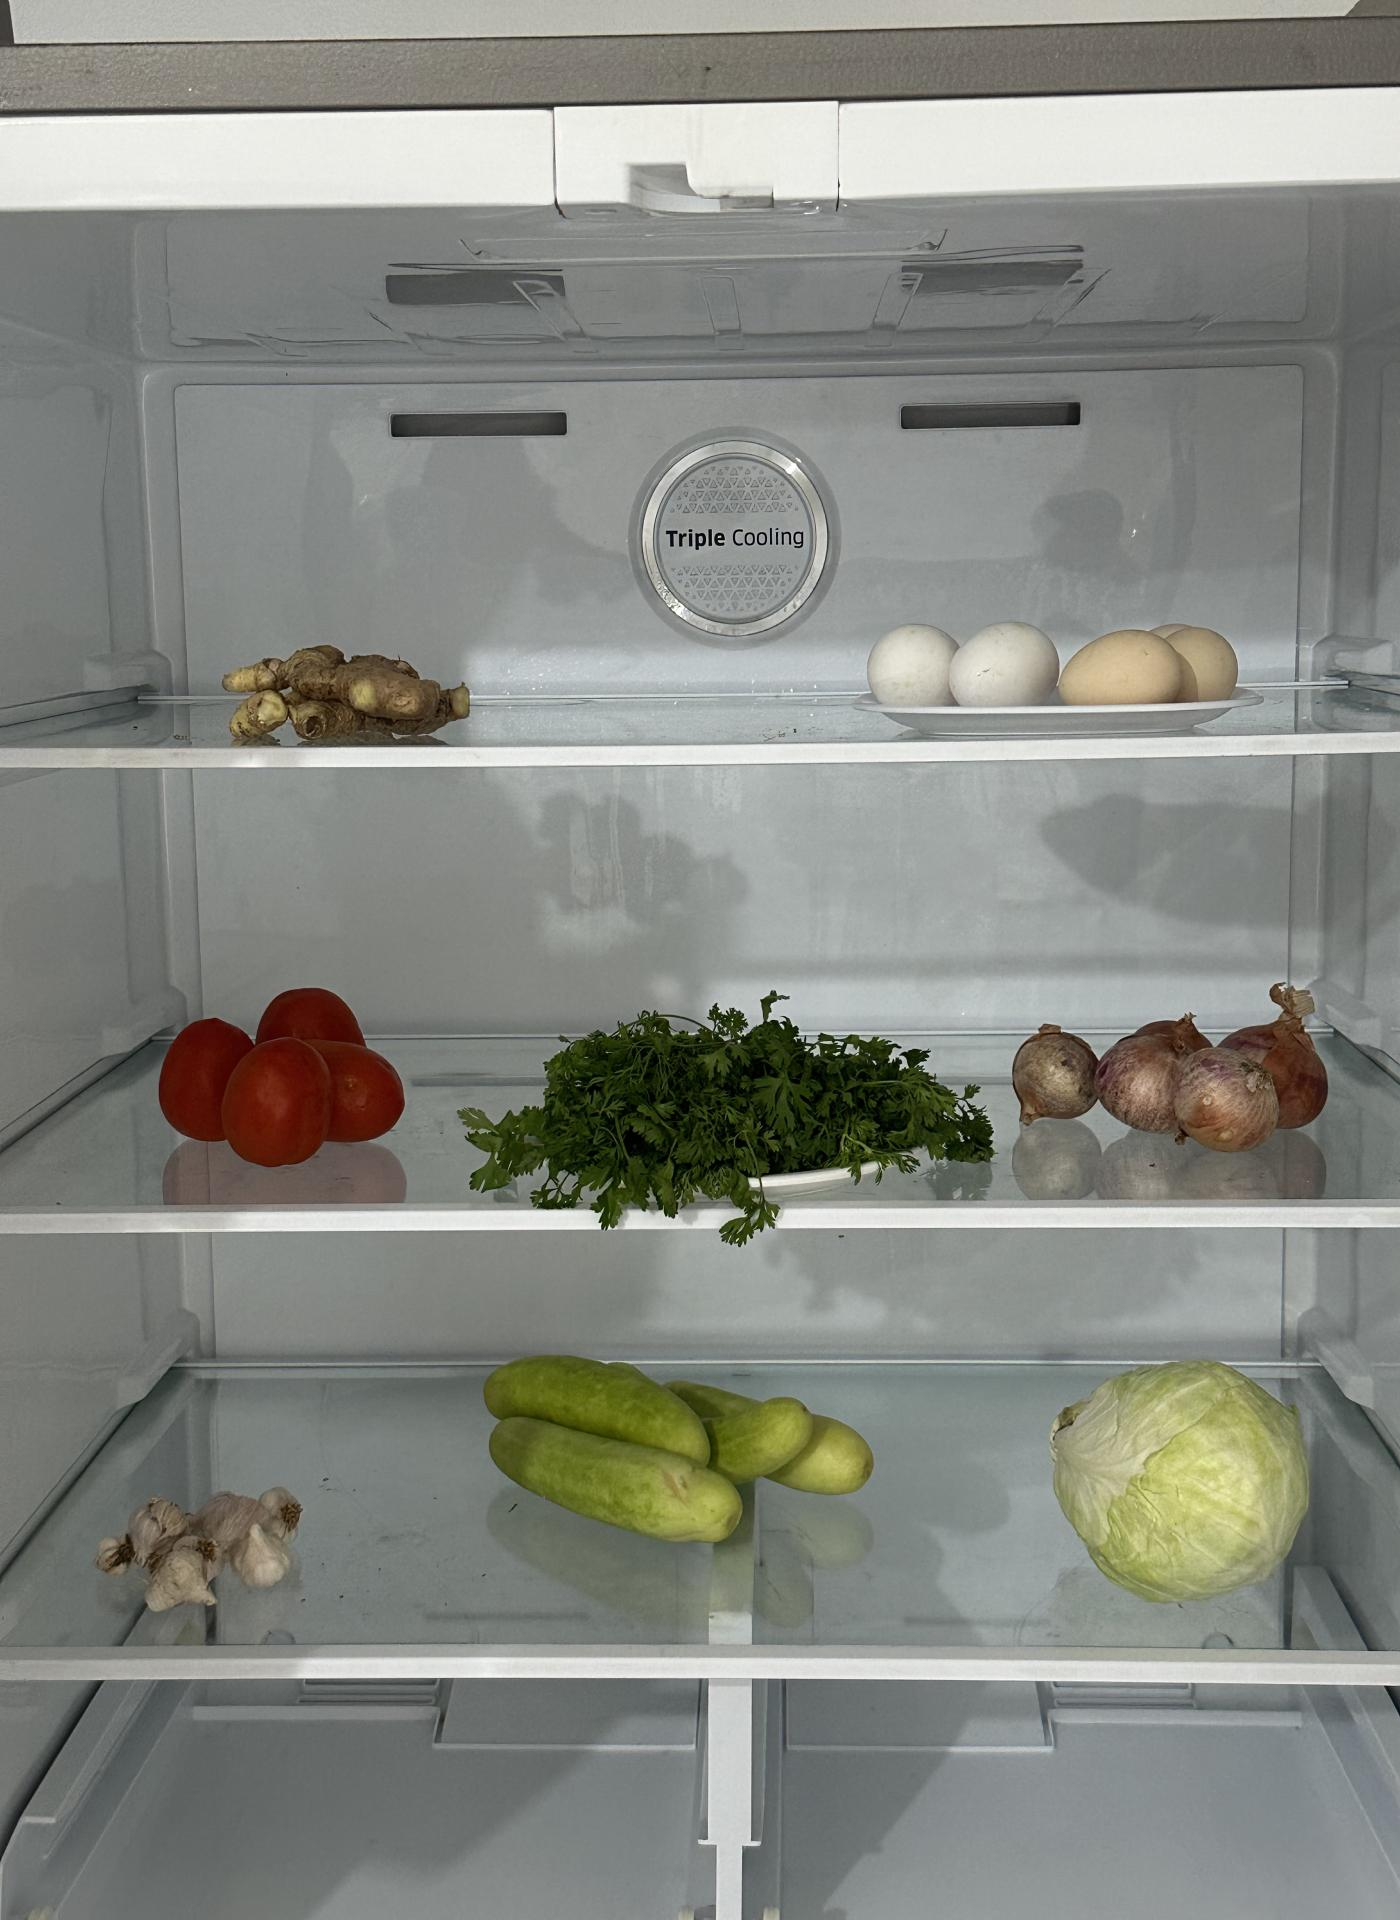cabbage: (1048, 1355, 1315, 1591)
coriander: (501, 1009, 978, 1179)
cucumber: (482, 1343, 872, 1541)
egg: (862, 610, 1239, 711)
garlic: (104, 1477, 312, 1616)
ginger: (218, 632, 483, 747)
onion: (1017, 1003, 1331, 1143)
tomato: (160, 975, 404, 1163)
